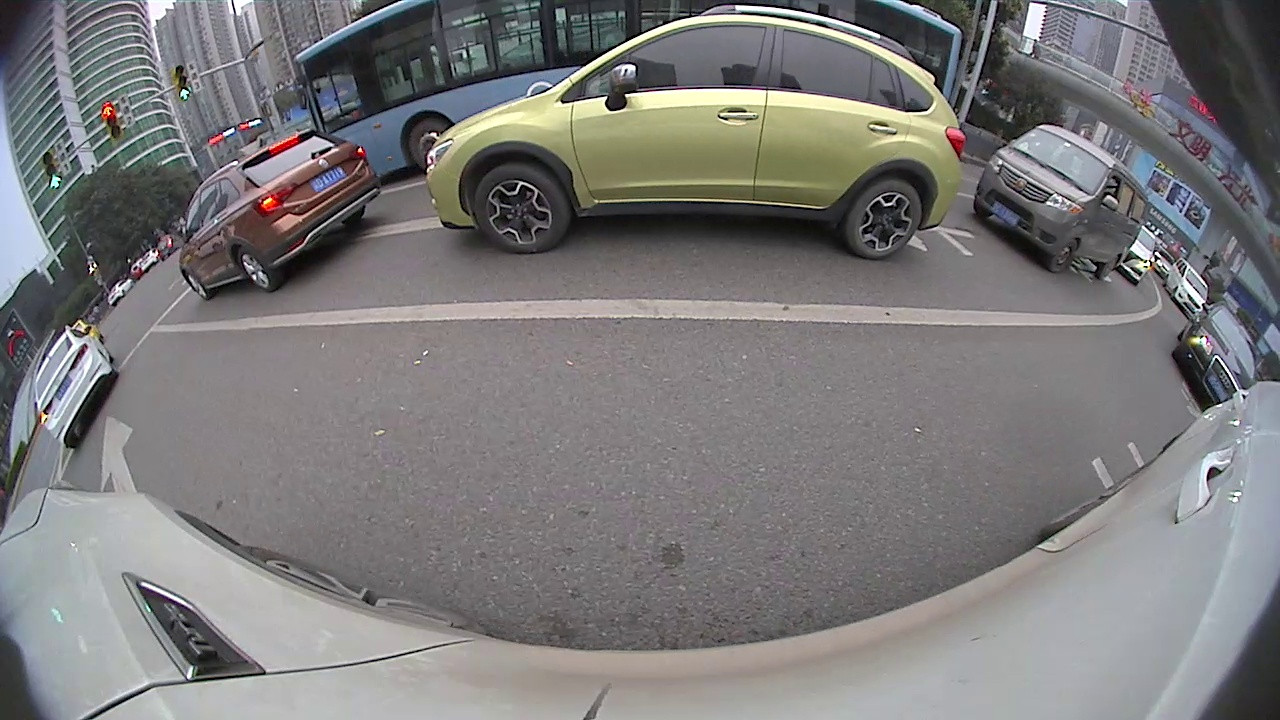bus: (292, 1, 966, 184)
car: (422, 3, 967, 263), (178, 128, 385, 302), (972, 121, 1153, 282), (31, 327, 121, 450), (1170, 302, 1259, 410), (1162, 259, 1211, 322), (1119, 225, 1159, 287)
front: (468, 160, 574, 257), (403, 113, 454, 172), (1046, 236, 1083, 278)
rear: (841, 175, 925, 263), (230, 243, 282, 293)
